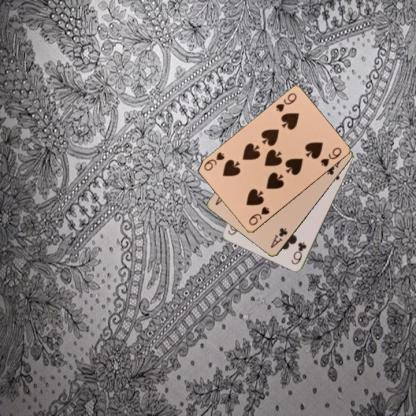6c: (289, 240, 308, 266)
9s: (246, 204, 271, 228), (273, 90, 298, 113)
Ac: (268, 225, 289, 250)
